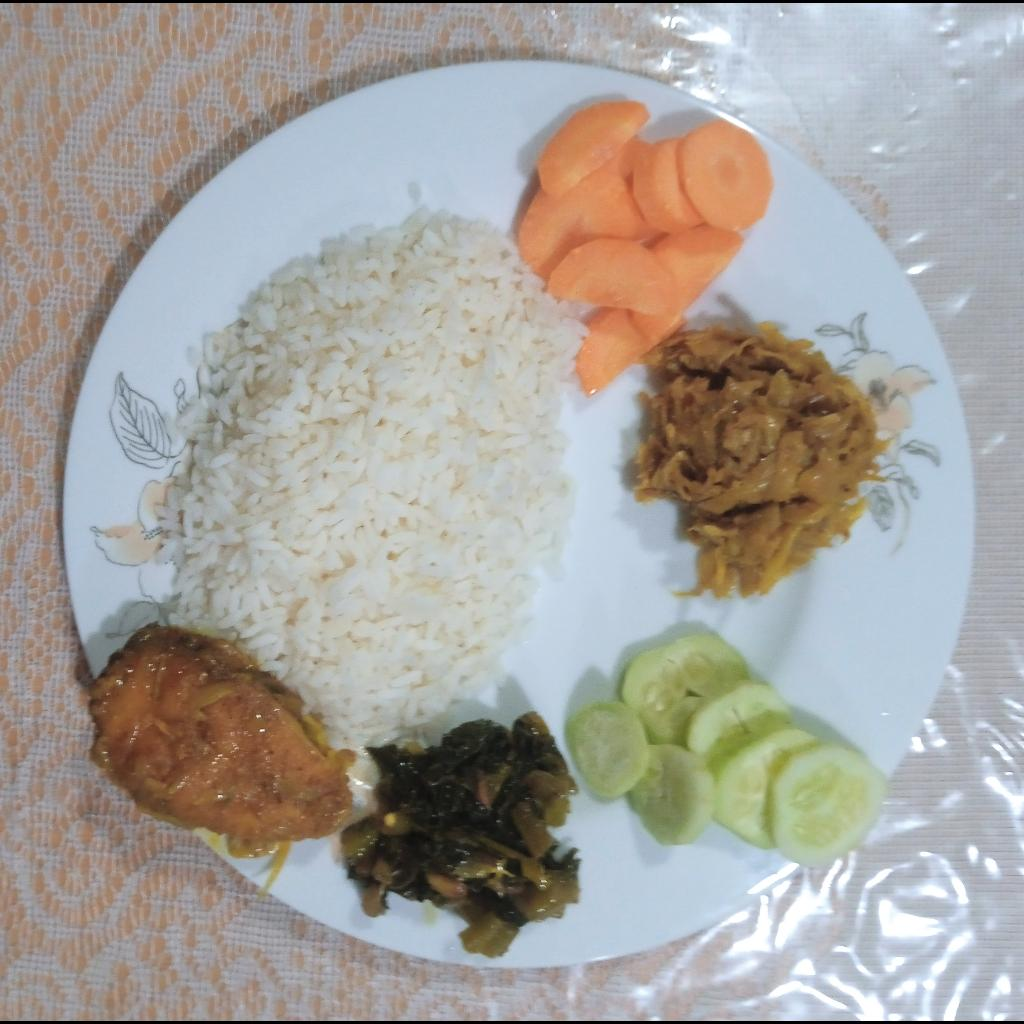cabbage: (634, 323, 888, 604)
carrot: (520, 98, 776, 397)
cucumber: (565, 626, 888, 868)
fish: (87, 627, 350, 846)
rice: (162, 207, 582, 753)
shak: (340, 712, 580, 962)
